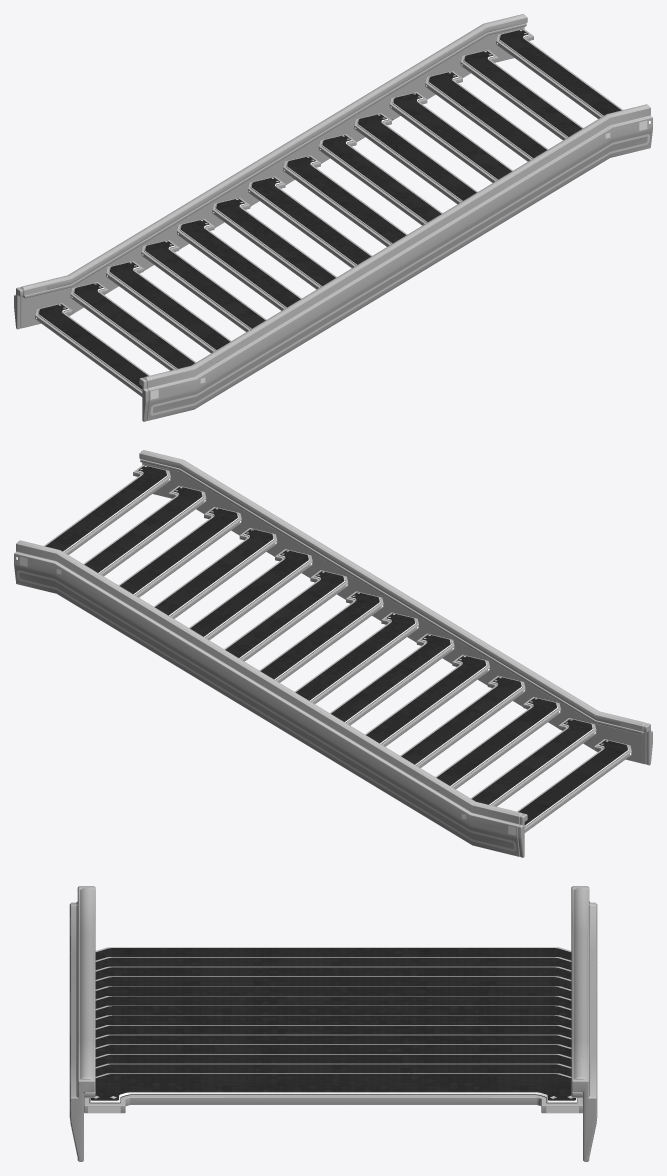
The model's file is SM_Stairs_2_Merged.fbx.
The picture shows the model from 3 angles, top to bottom: view 1: azimuth 30°, elevation 25°; view 2: azimuth 150°, elevation 25°; view 3: azimuth 270°, elevation 25°; orthographic projection. The views are drawn at different scales.
Parts seen in each view (by area): view 1: SM_Stairs_2_Merged_LOD0; view 2: SM_Stairs_2_Merged_LOD0; view 3: SM_Stairs_2_Merged_LOD0.
Boxes of the visible parts, x1,y1,x2,y2 form: SM_Stairs_2_Merged_LOD0: (14,14,652,421); SM_Stairs_2_Merged_LOD0: (14,450,652,857); SM_Stairs_2_Merged_LOD0: (69,886,597,1161).
Size of the model in its own units: 768 by 345 by 278.
